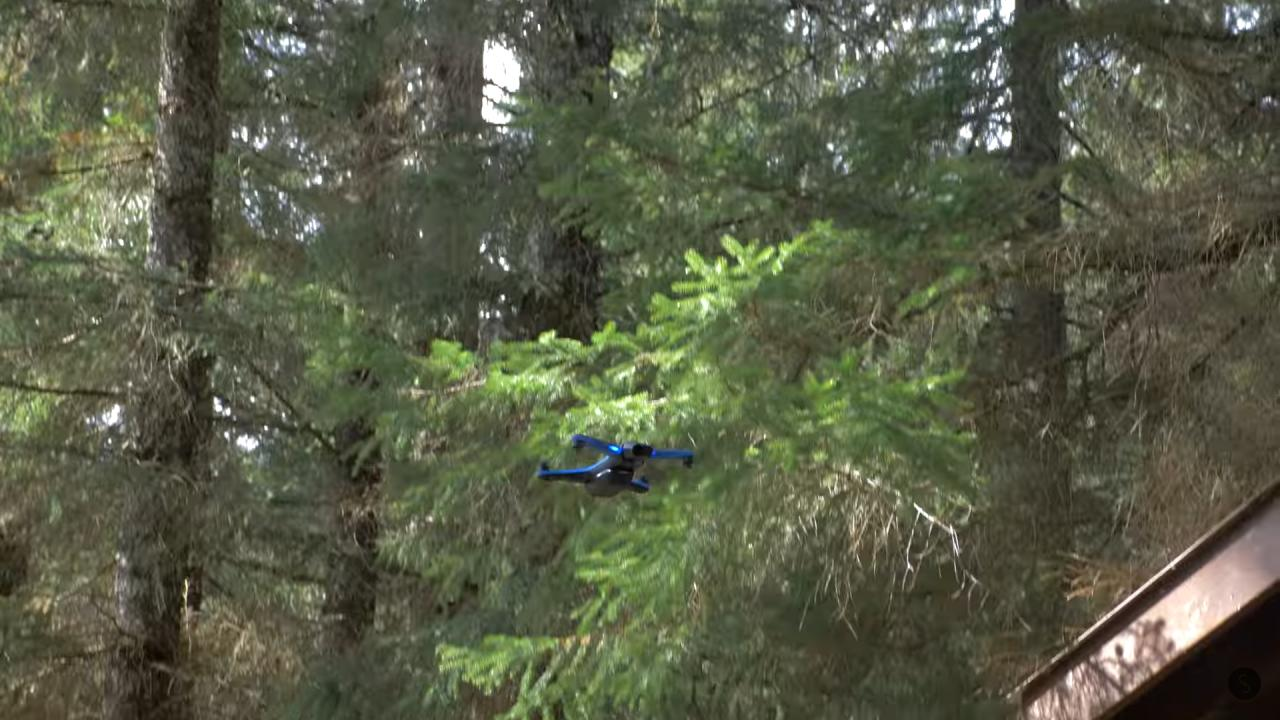Drone: (523, 410, 701, 508)
